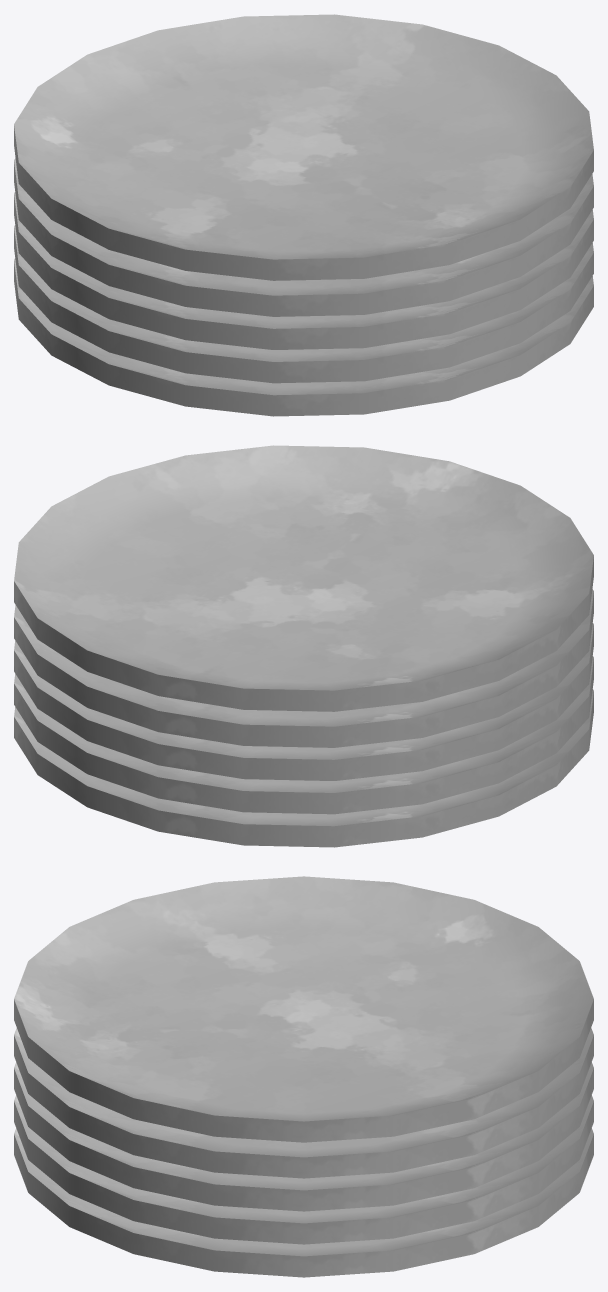
File: Pilha Pratos Arrumado.fbx
3 renders of one model, top to bottom at view 1: azimuth 30°, elevation 25°; view 2: azimuth 150°, elevation 25°; view 3: azimuth 270°, elevation 25°, orthographic.
Visible parts, largest first — view 1: Pilha Pratos Arrumado; view 2: Pilha Pratos Arrumado; view 3: Pilha Pratos Arrumado.
Boxes of the visible parts, left/top/right/bottom form: Pilha Pratos Arrumado: left=14, top=14, right=593, bottom=416; Pilha Pratos Arrumado: left=14, top=445, right=593, bottom=847; Pilha Pratos Arrumado: left=14, top=876, right=593, bottom=1277.
Size of the model in its own units: 36.18 by 11.74 by 36.18.
1 material, 1 textured.
